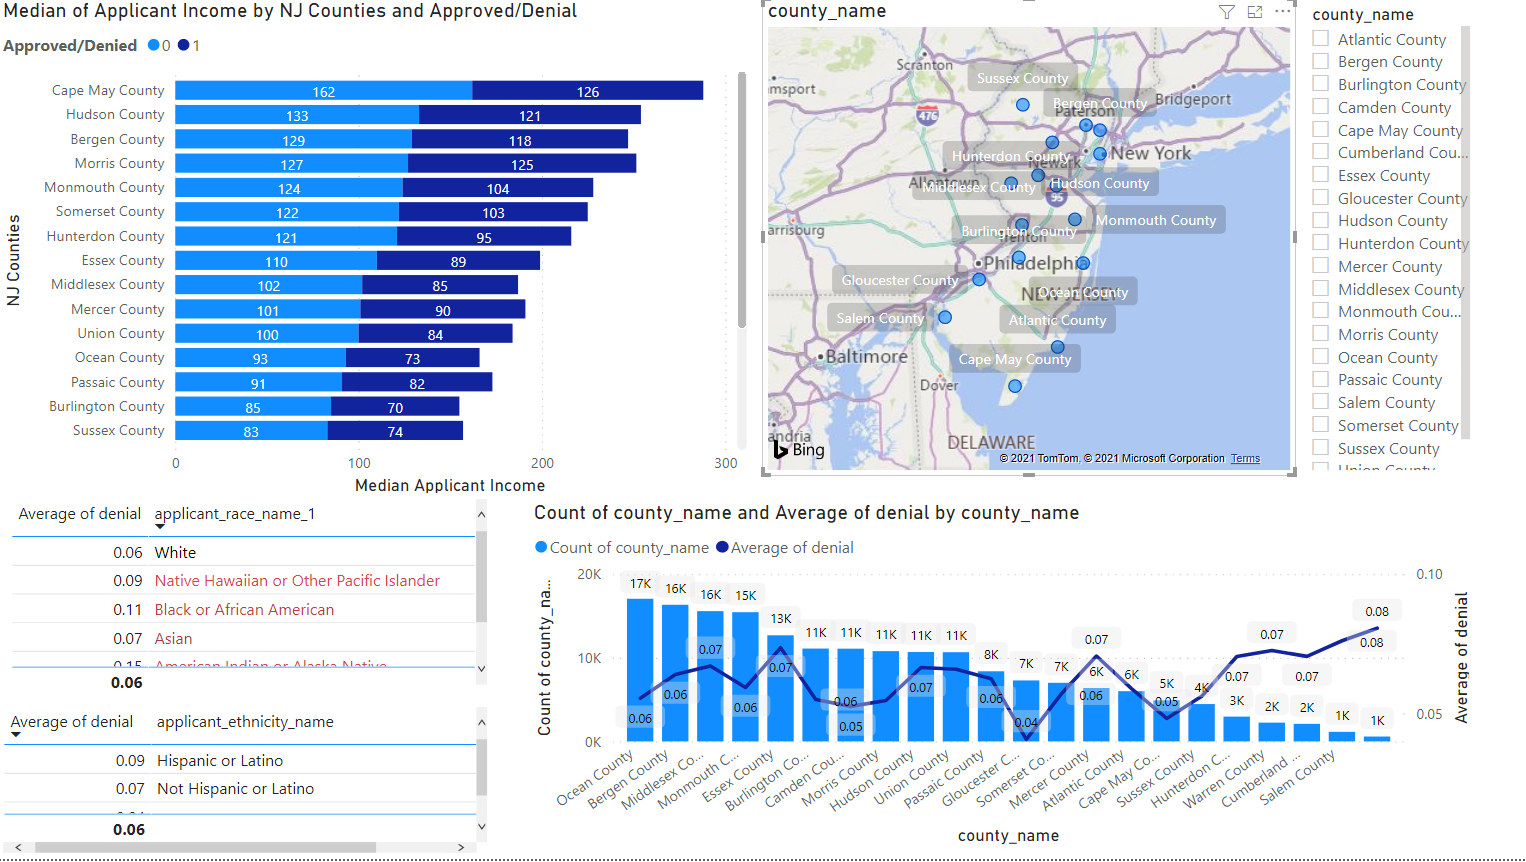

This screenshot's page, from the dashboard's own definition file:
{"tool":"powerbi","page":{"name":"Page 1","canvas":[1280,720],"ordinal":0},"visuals":[{"type":"barChart","title":"Median of Applicant Income by NJ Counties and Approved/Denial","fields":{"Series":["df_mortgage_loan_decision_preprocess.denial"],"Y":["Median(df_mortgage_loan_decision_preprocess.applicant_income_000s)"],"Category":["df_mortgage_loan_decision_preprocess.county_name"]},"box":[0,0,632.1,419.9],"z":0},{"type":"map","fields":{"Category":["df_mortgage_loan_decision_preprocess.county_name"]},"box":[640.1,0,446.6,399.5],"z":1000},{"type":"lineStackedColumnComboChart","fields":{"Category":["df_mortgage_loan_decision_preprocess.county_name"],"Y":["CountNonNull(df_mortgage_loan_decision_preprocess.county_name)"],"Y2":["Avg(df_mortgage_loan_decision_preprocess.denial)"]},"box":[443.9,419.9,791.9,293],"z":2000},{"type":"tableEx","fields":{"Values":["Avg(df_mortgage_loan_decision_preprocess.denial)","df_mortgage_loan_decision_preprocess.applicant_race_name_1"]},"box":[7.1,413.7,408.4,174],"z":3000},{"type":"tableEx","fields":{"Values":["Avg(df_mortgage_loan_decision_preprocess.denial)","df_mortgage_loan_decision_preprocess.applicant_ethnicity_name"]},"box":[0,587.7,415.5,132.3],"z":4000},{"type":"slicer","fields":{"Values":["df_mortgage_loan_decision_preprocess.county_name"]},"box":[1087,0,150,400],"z":5000}]}

Visuals, with their boxes in screenshot pixels (x1, y1, x2, y2), scaled from the page's 1280x720 canvas onto the 1526x862 screenshot:
"Median of Applicant Income by NJ Counties and Approved/Denial" barChart: BBox(0, 0, 754, 503)
map - df_mortgage_loan_decision_preprocess.county_name: BBox(763, 0, 1296, 478)
lineStackedColumnComboChart - df_mortgage_loan_decision_preprocess.county_name x CountNonNull(df_mortgage_loan_decision_preprocess.county_name): BBox(529, 503, 1473, 853)
tableEx - Avg(df_mortgage_loan_decision_preprocess.denial) x df_mortgage_loan_decision_preprocess.applicant_race_name_1: BBox(8, 495, 495, 704)
tableEx - Avg(df_mortgage_loan_decision_preprocess.denial) x df_mortgage_loan_decision_preprocess.applicant_ethnicity_name: BBox(0, 704, 495, 861)
slicer - df_mortgage_loan_decision_preprocess.county_name: BBox(1296, 0, 1475, 479)
